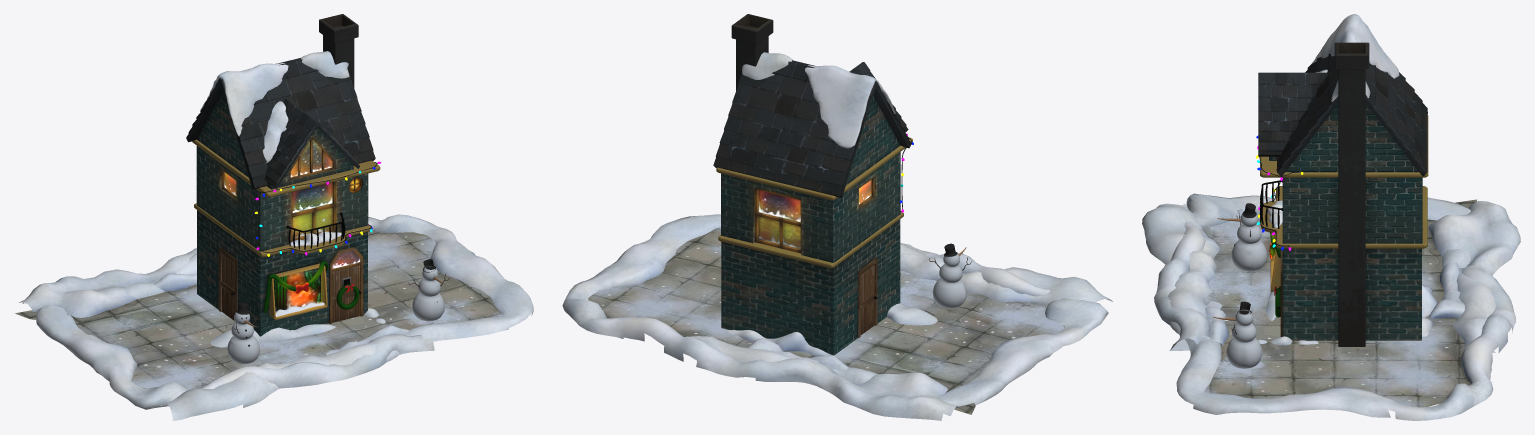
The model's file is townhouse.glb.
3 views of the same model, side by side, from view 1: azimuth 30°, elevation 25°; view 2: azimuth 150°, elevation 25°; view 3: azimuth 270°, elevation 25° (orthographic). The views are drawn at different scales.
Parts seen in each view (by area): view 1: Mesh_0.001_Material.001_0; view 2: Mesh_0.001_Material.001_0; view 3: Mesh_0.001_Material.001_0.
Part boxes in pixels (<box>): Mesh_0.001_Material.001_0: <box>15,14,533,420</box>; Mesh_0.001_Material.001_0: <box>562,14,1112,420</box>; Mesh_0.001_Material.001_0: <box>1142,14,1520,420</box>.
Size of the model in its own units: 20.35 by 13 by 14.82.
Materials: 4 (4 with a texture image).
